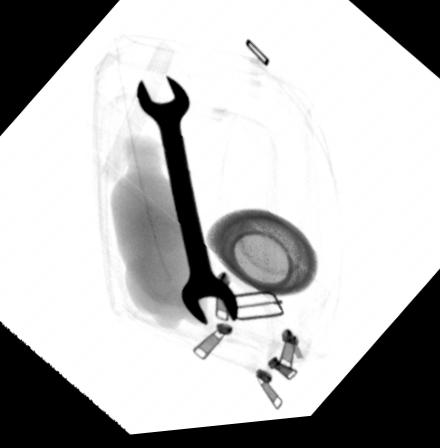Wrench: (133, 74, 239, 333)
